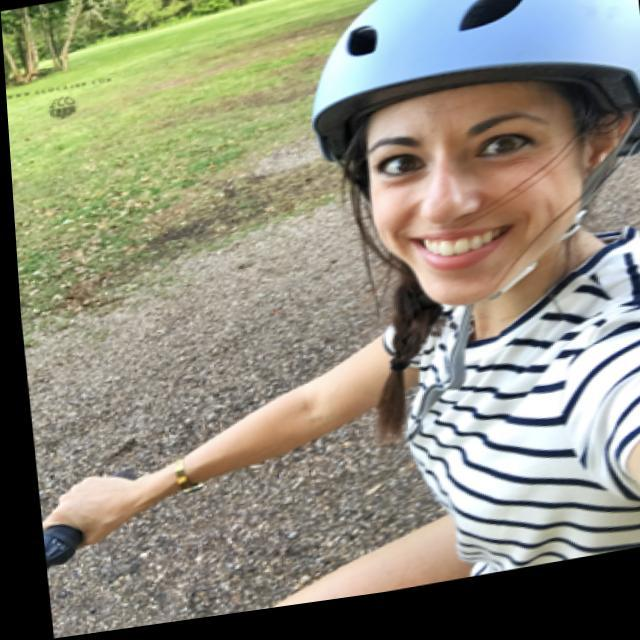Helmet: (300, 0, 639, 325)
